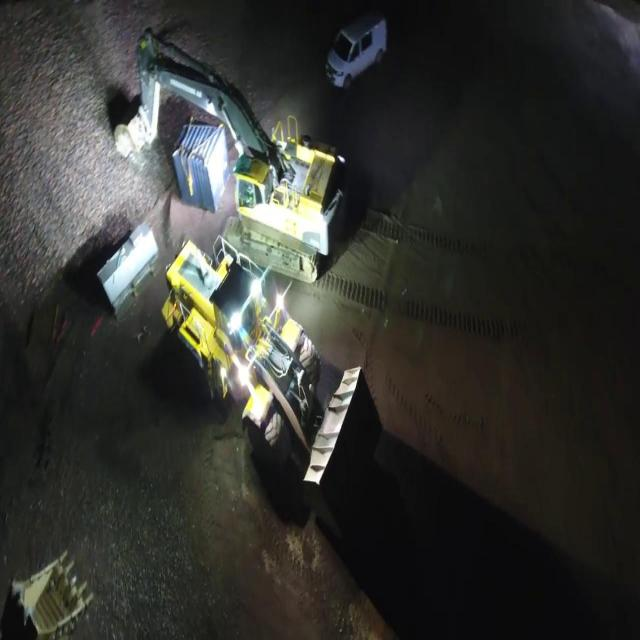Excavator: (108, 23, 346, 271)
Loader: (157, 235, 382, 502)
